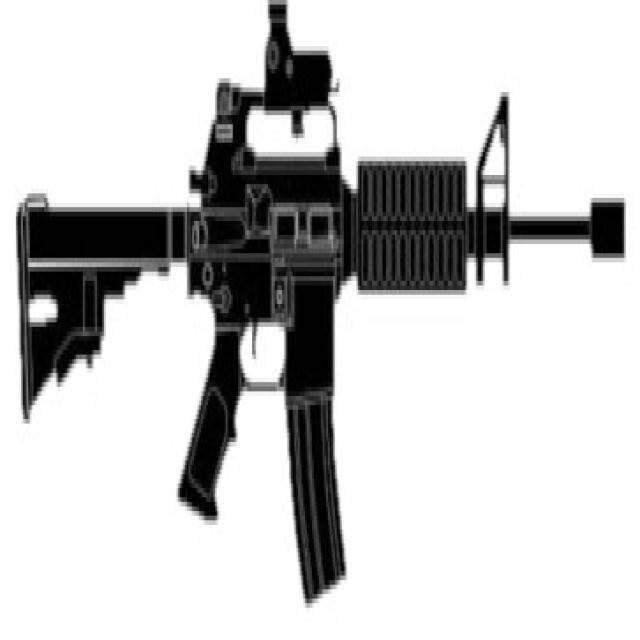rifle: (11, 1, 630, 613)
